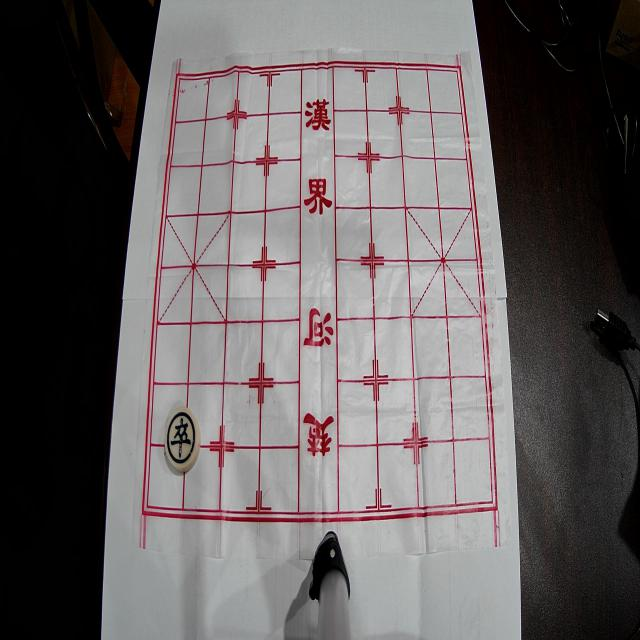black-soldier: (165, 408, 201, 472)
